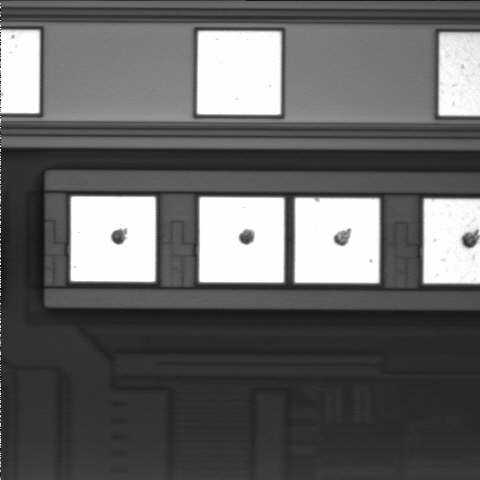pad: (199, 197, 284, 283), (71, 197, 156, 282), (295, 198, 379, 283), (197, 31, 281, 115)
